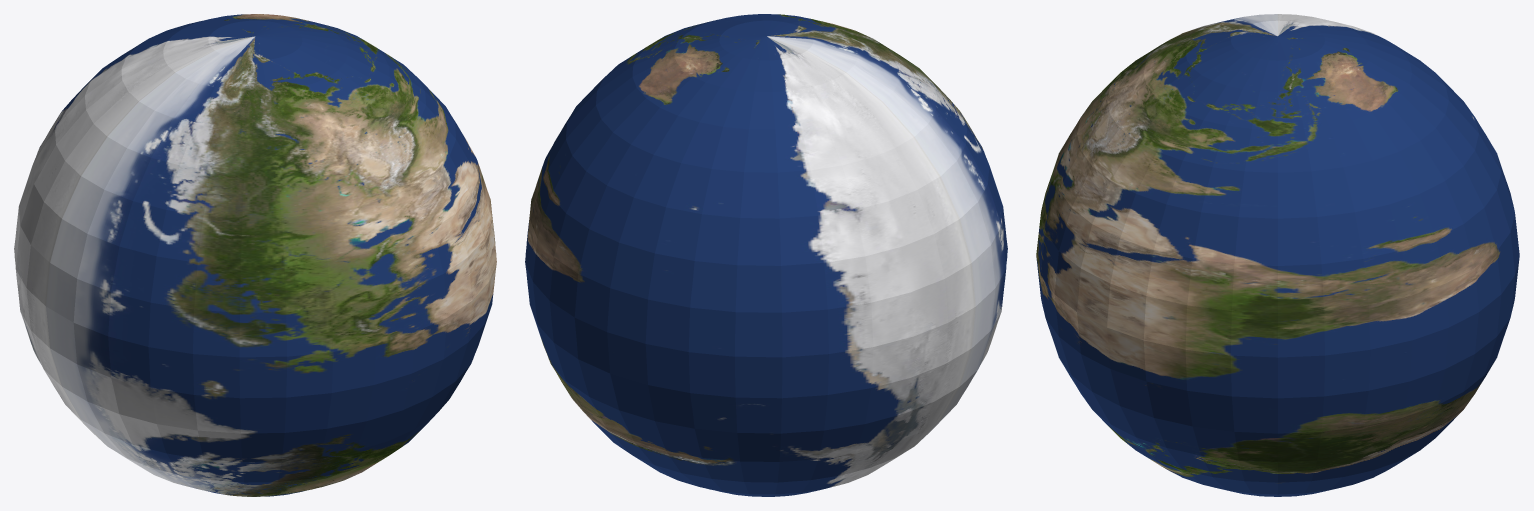
File: ATierraMarck2.gltf
The picture shows the model from 3 angles, left to right: view 1: azimuth 30°, elevation 25°; view 2: azimuth 150°, elevation 25°; view 3: azimuth 270°, elevation 25°; orthographic projection.
Visible parts, largest first — view 1: Sphere; view 2: Sphere; view 3: Sphere.
Boxes of the visible parts, <box> form: Sphere: <box>14,14,496,496</box>; Sphere: <box>525,14,1007,496</box>; Sphere: <box>1036,14,1519,496</box>.
Bounding box in the file's own units: 2 × 2 × 2.
Materials: 1 (1 with a texture image).
